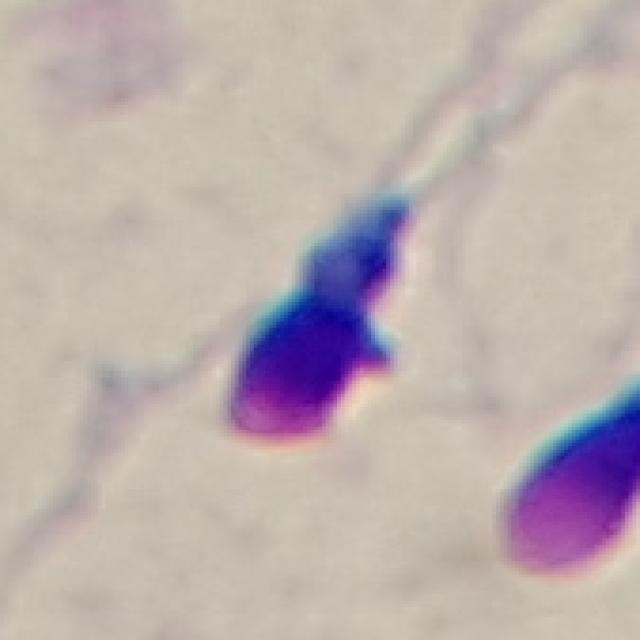abnormal sperm: (195, 70, 547, 458)
